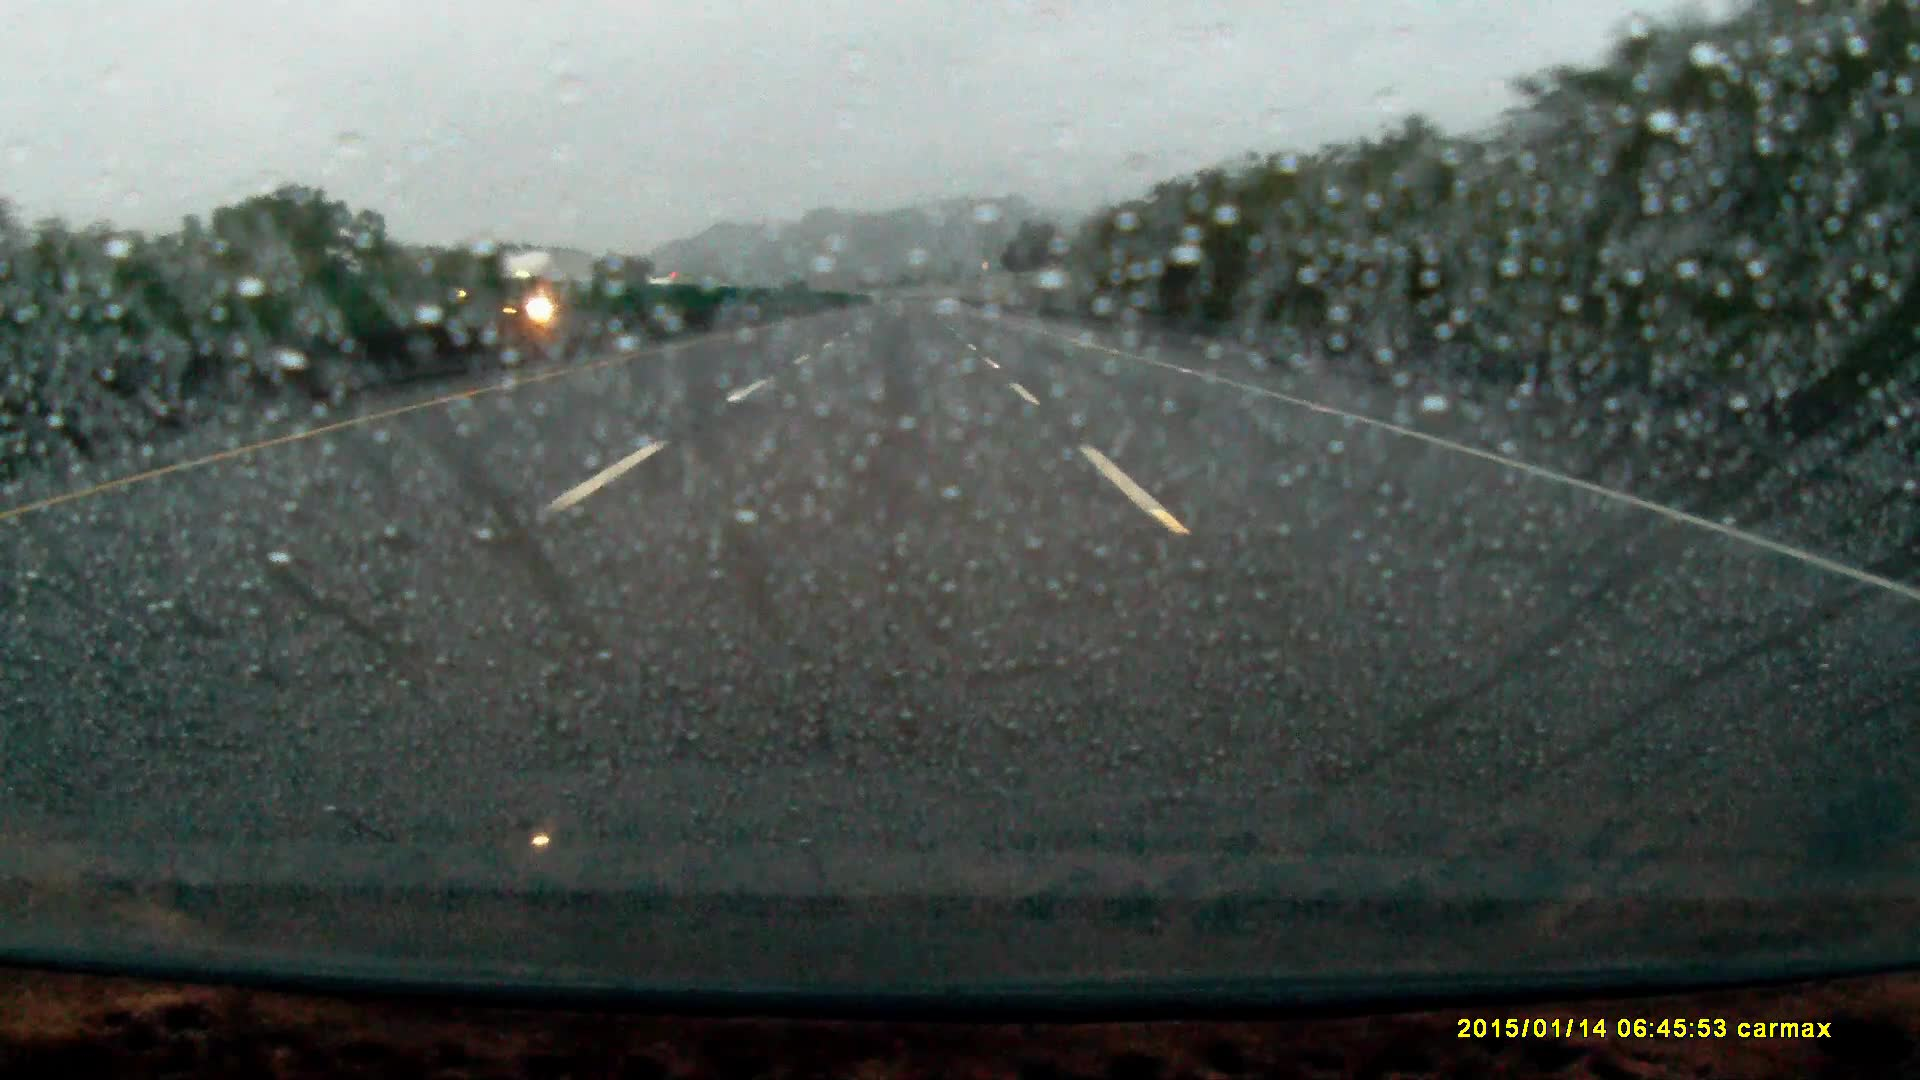vehicle: (502, 249, 612, 338), (647, 278, 694, 313)
